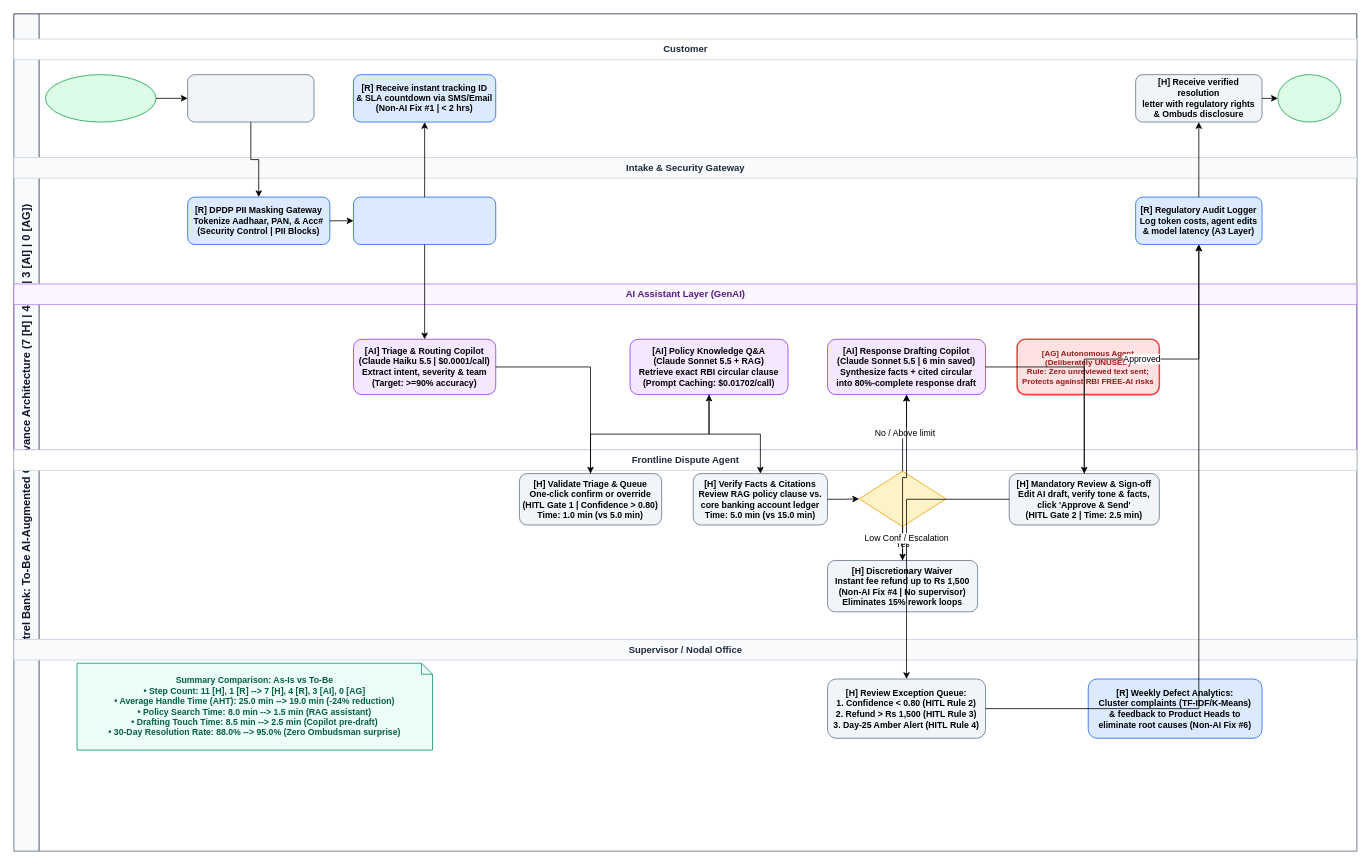
Image size: 1371x865. Some labels were removed from this diagram. Here are the shapes that lost their labels. From the top down, the centre of each, then its label:
the point at 100,98: Customer submits dispute via Web / App / Branch
the point at 250,98: [H] Input grievance with standard 3-level taxonomy (Non-AI Fix #2 | Time: 5 min)
the point at 1309,98: Resolution Closed (SLA met < 30 days; FCR improved)
the point at 424,220: [R] Duplicate Check & Day-25 SLA Timer Start (Non-AI Fix #3 & #5)
the point at 902,498: Fee Dispute <= Rs 1,500?
